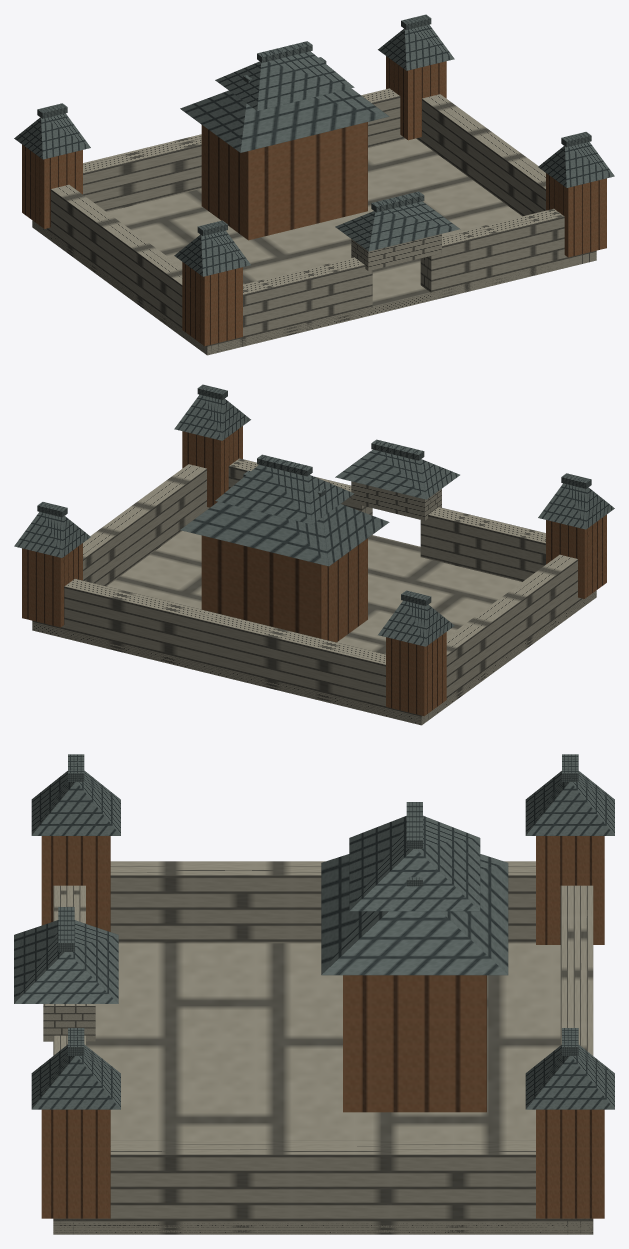
File: city0-lod1.glb
The picture shows the model from 3 angles, top to bottom: view 1: azimuth 30°, elevation 25°; view 2: azimuth 150°, elevation 25°; view 3: azimuth 270°, elevation 25°; orthographic projection. The views are drawn at different scales.
Bounding box in the file's own units: 2.24 × 0.9 × 1.84.
Materials: 1 (1 with a texture image).
